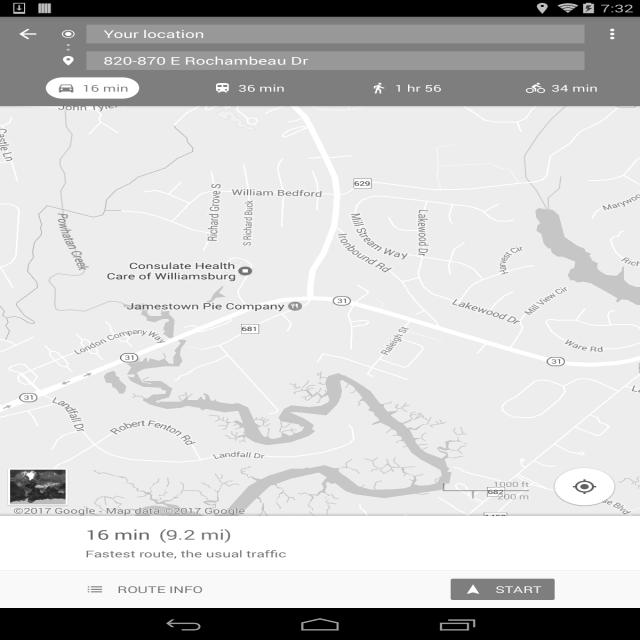Button: (10, 470, 66, 504)
EditText: (86, 17, 584, 47), (86, 47, 584, 77)
ImageView: (550, 465, 619, 508), (10, 470, 66, 504), (587, 25, 638, 43), (12, 25, 42, 43), (54, 38, 81, 57), (56, 51, 81, 70), (56, 25, 81, 43), (94, 595, 119, 611), (56, 82, 76, 94), (213, 82, 232, 94), (369, 82, 388, 94), (526, 82, 545, 94), (463, 584, 482, 596), (86, 584, 104, 596)
TextView: (104, 53, 308, 68), (85, 548, 287, 562), (0, 505, 245, 516), (104, 27, 267, 41), (145, 596, 246, 610), (159, 526, 231, 544), (104, 583, 202, 596), (86, 526, 150, 544), (482, 583, 554, 596), (394, 82, 442, 94), (82, 82, 129, 94), (238, 82, 285, 94), (551, 82, 598, 94)
